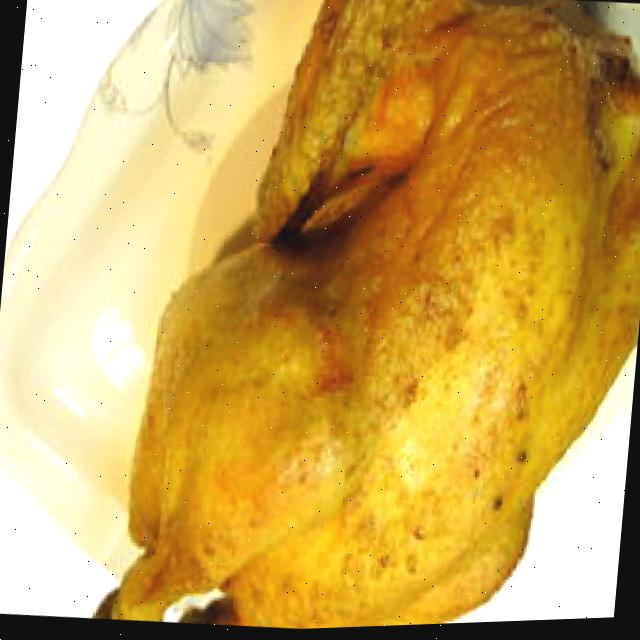鸡肉料理 含炸鸡: (71, 0, 640, 638)
